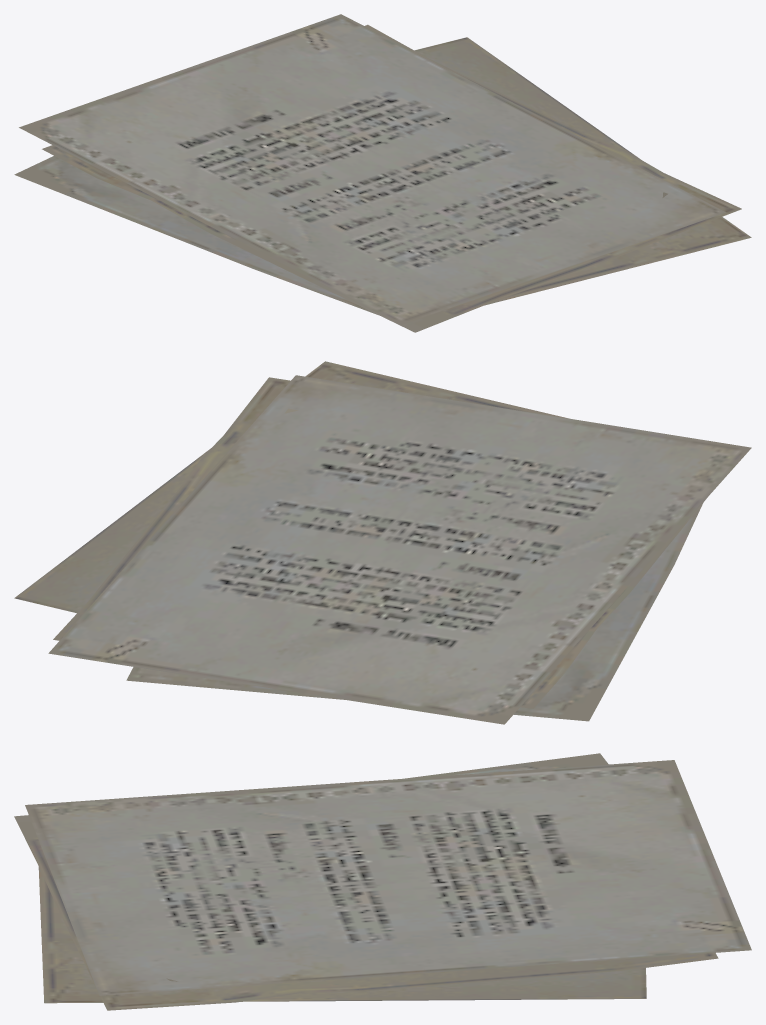
The model's file is 004_document01a.fbx.
3 views of the same model, one above another, from view 1: azimuth 30°, elevation 25°; view 2: azimuth 150°, elevation 25°; view 3: azimuth 270°, elevation 25° (orthographic). The views are drawn at different scales.
Parts seen in each view (by area): view 1: LOD_1_Group_0_Sub_1__sm74_004_Document01A_A_Mat__Env_default; view 2: LOD_1_Group_0_Sub_1__sm74_004_Document01A_A_Mat__Env_default; view 3: LOD_1_Group_0_Sub_1__sm74_004_Document01A_A_Mat__Env_default.
Part boxes in pixels (left/top/right/bottom): LOD_1_Group_0_Sub_1__sm74_004_Document01A_A_Mat__Env_default: left=14, top=14, right=751, bottom=332; LOD_1_Group_0_Sub_1__sm74_004_Document01A_A_Mat__Env_default: left=14, top=361, right=751, bottom=724; LOD_1_Group_0_Sub_1__sm74_004_Document01A_A_Mat__Env_default: left=14, top=753, right=751, bottom=1010.
Bounding box in the file's own units: 0.3086 × 0.00815 × 0.3605.
